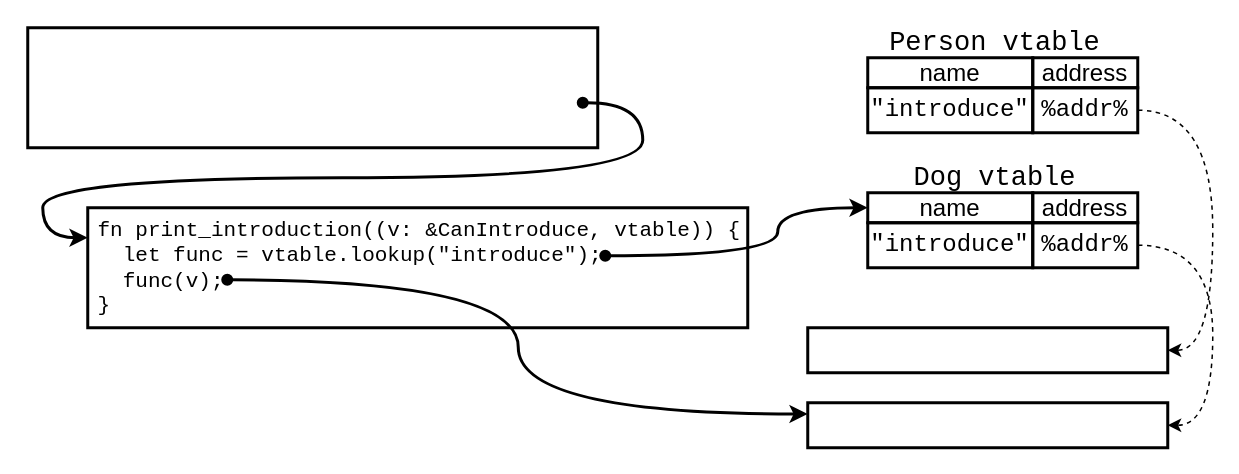
The diagram is 1239 pixels wide and 474 high, and some of its shapes have lost their labels. Here are the shapes that lost their labels. From the top down, the box of each, then its label:
(26, 26, 598, 148): fn main() { let dog = ...; print_introduction((&dog, &dog_vtable)); }
(806, 326, 1168, 374): fn introduce(self: &Person)
(806, 400, 1168, 448): fn introduce(self: &Dog)
